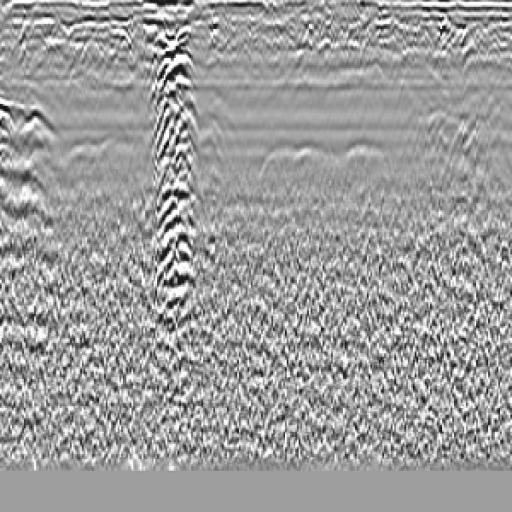metalic: (140, 21, 227, 358)
